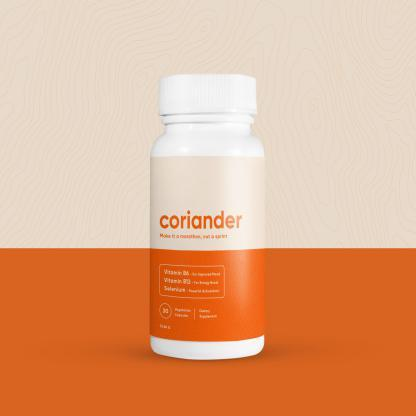jar: (150, 76, 265, 359)
